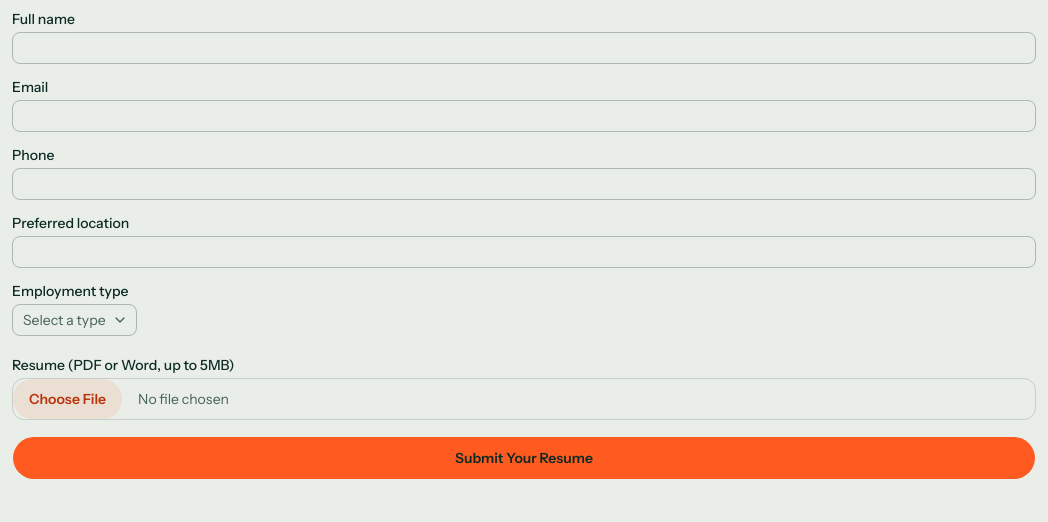
Test: CandidateForm › blocks submission when no resume has been attached, even with valid fields
Type "Sam Okafor" into the field labelled "Full name".
click(524, 48); type("Sam Okafor")  # box x1=12 y1=32 x2=1036 y2=64
Type "sam@example.com" into the field labelled "Email".
click(524, 116); type("sam@example.com")  # box x1=12 y1=100 x2=1036 y2=132
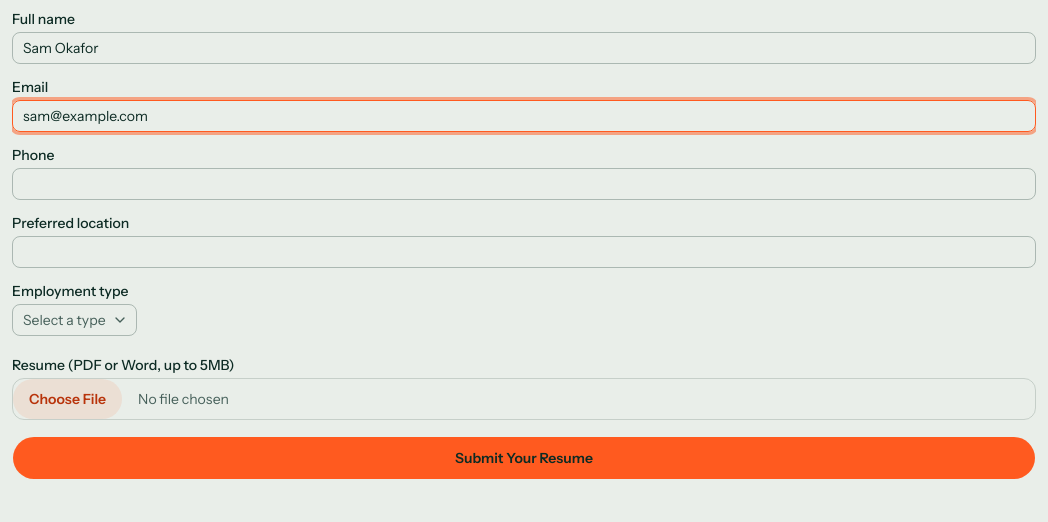
Type "5559876543" into the field labelled "Phone".
click(524, 184); type("5559876543")  # box x1=12 y1=168 x2=1036 y2=200
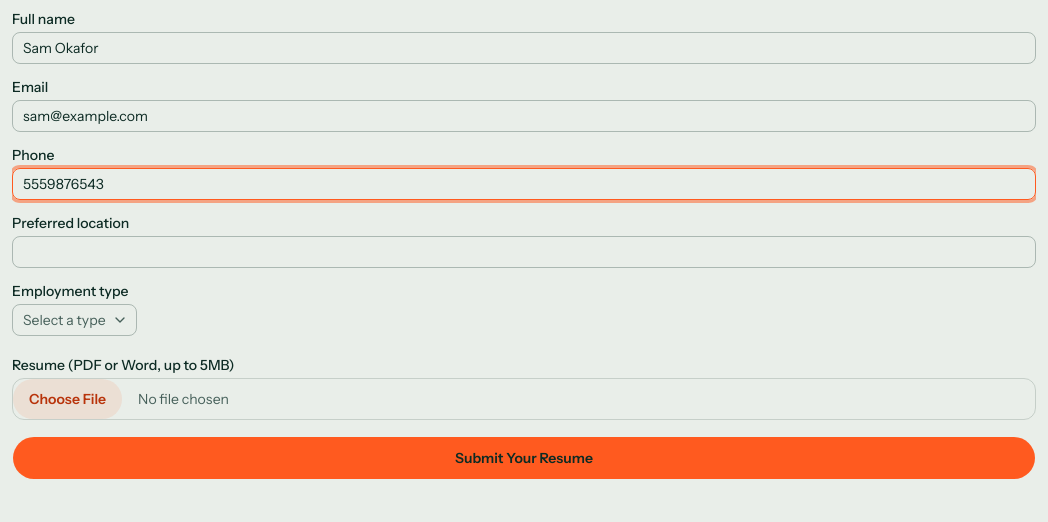
Type "Remote" into the field labelled "Preferred location".
click(524, 252); type("Remote")  # box x1=12 y1=236 x2=1036 y2=268
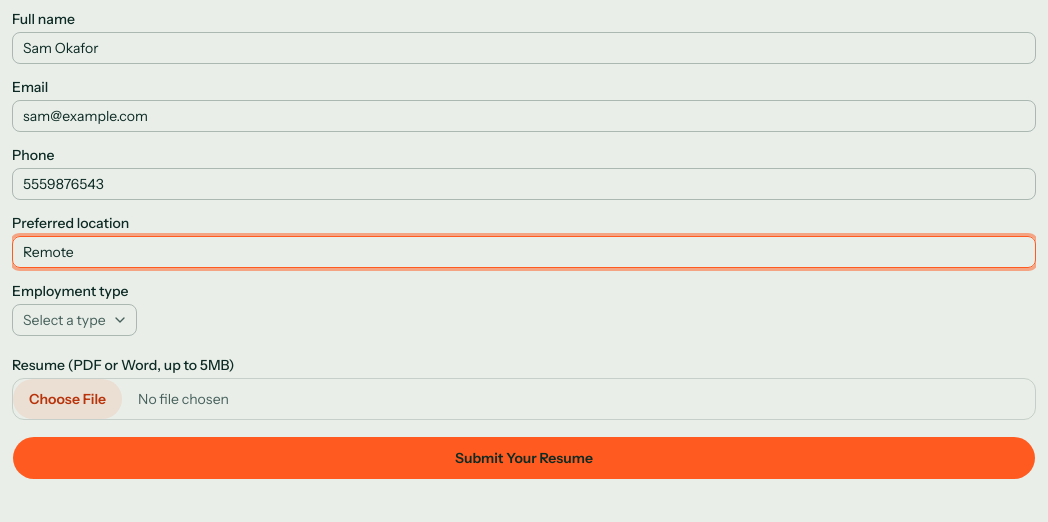
Click the dropdown named "Employment type".
click(74, 320)  # box x1=12 y1=304 x2=136 y2=336
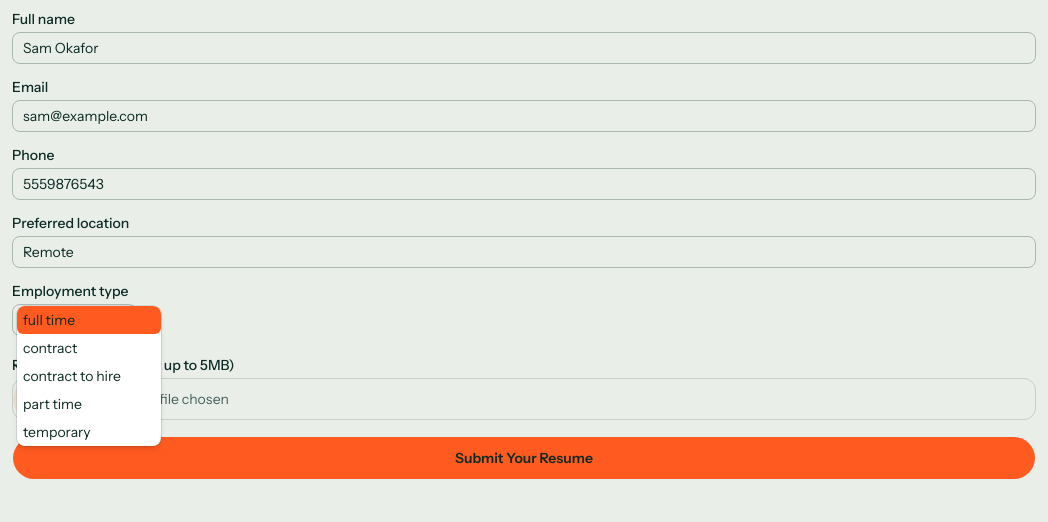
Click the option "contract".
click(50, 348)  # box x1=23 y1=339 x2=77 y2=357
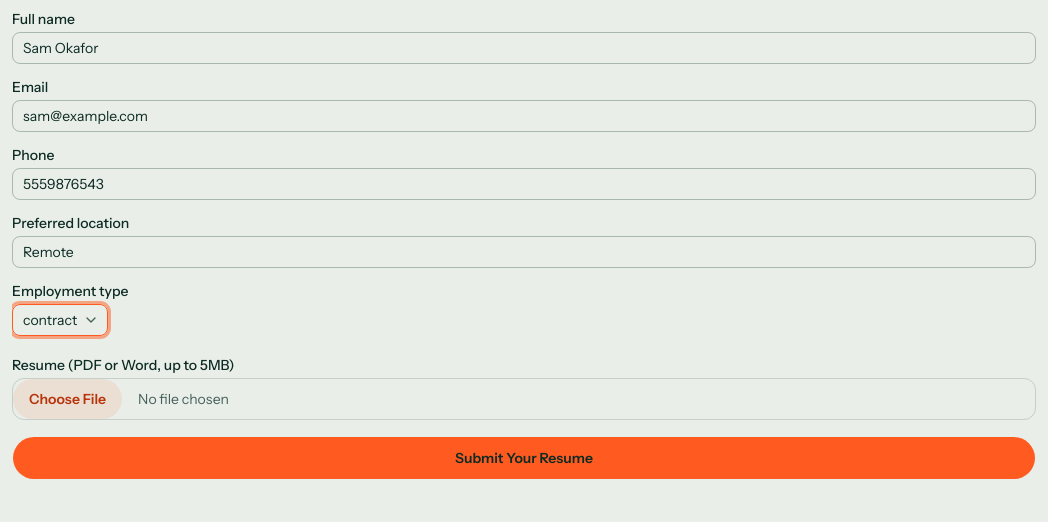
Click the button "Submit Your Resume".
click(524, 458)  # box x1=12 y1=436 x2=1036 y2=480
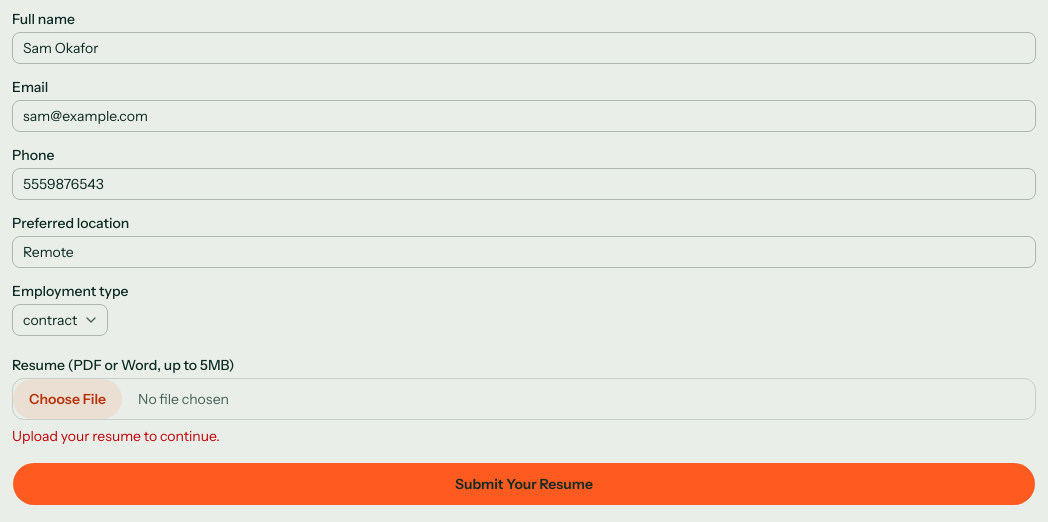
Now the message reads "Upload your resume to continue.", box x1=12 y1=427 x2=220 y2=445
